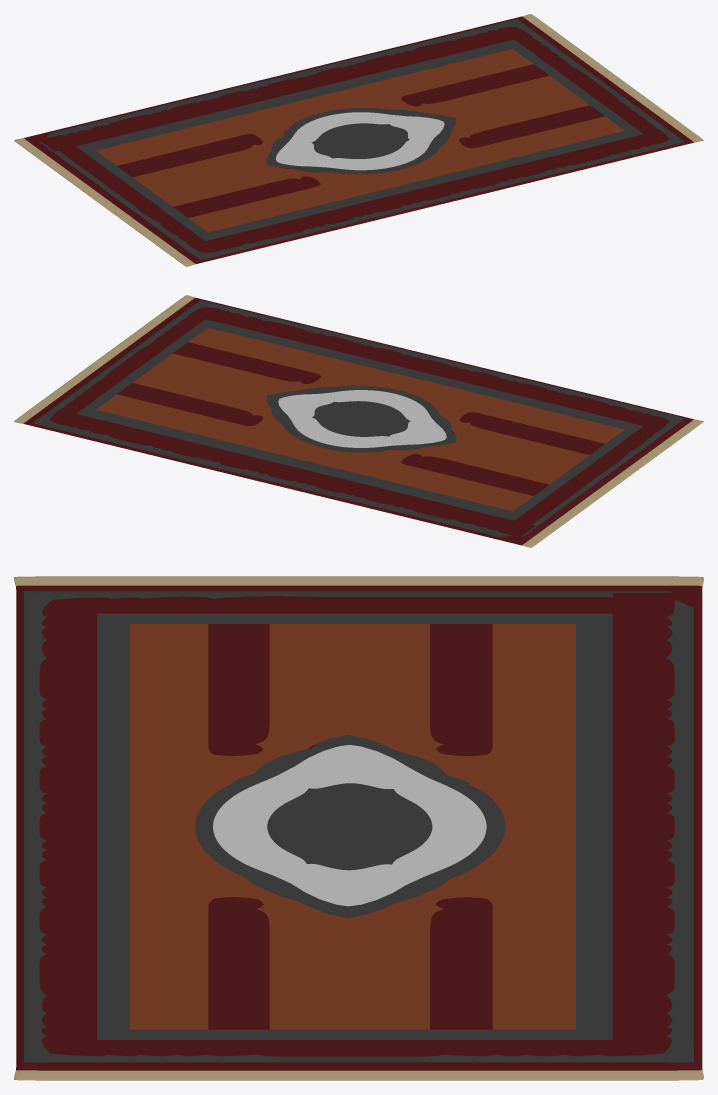
File: rug.fbx
The picture shows the model from 3 angles, top to bottom: view 1: azimuth 30°, elevation 25°; view 2: azimuth 150°, elevation 25°; view 3: azimuth 270°, elevation 25°; orthographic projection. The views are drawn at different scales.
Parts seen in each view (by area): view 1: Cube; view 2: Cube; view 3: Cube.
Part boxes in pixels (x1,y1,x2,y2): Cube: (14,14,703,266); Cube: (14,295,703,547); Cube: (14,576,703,1080).
Bounding box in the file's own units: 898 × 2.82 × 519.
